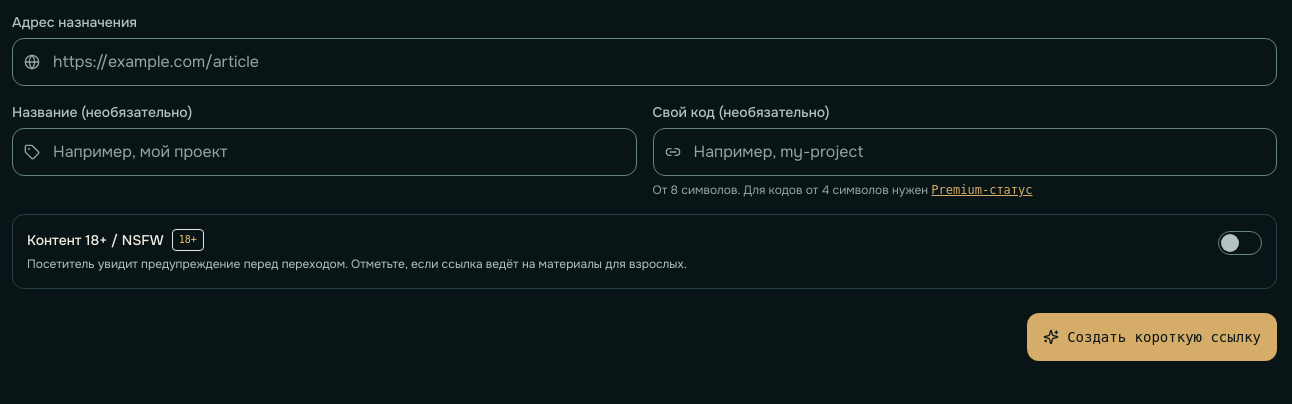
CreateLinkForm › shows validation error for invalid URL without checking or submitting
Type "not-a-valid-url" into the field labelled "Адрес назначения".
click(644, 62); type("not-a-valid-url")  # box x1=12 y1=38 x2=1277 y2=86
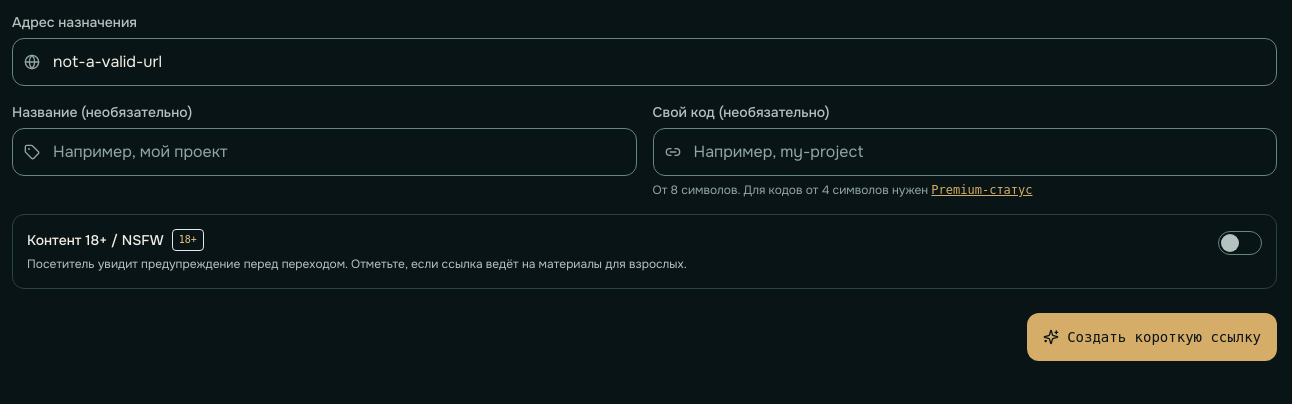
Click the button "Создать короткую ссылку".
click(1152, 337)  # box x1=1027 y1=313 x2=1277 y2=361
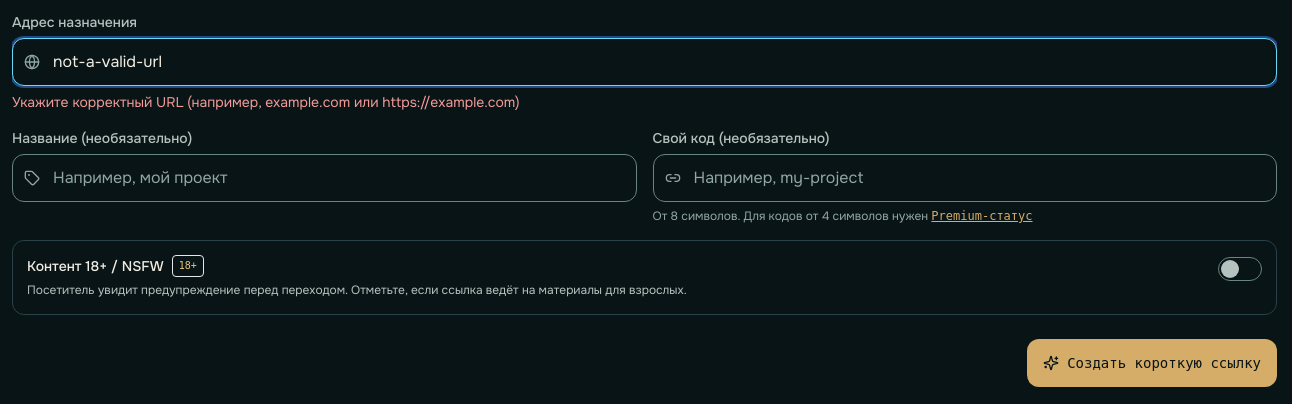
Now the text "Укажите корректный URL" is shown, box x1=12 y1=93 x2=520 y2=111
